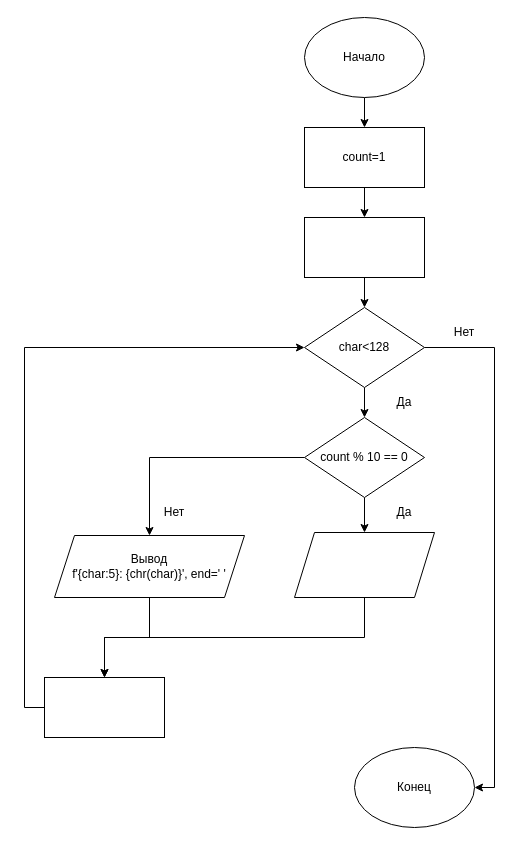
This 520x845 diagram has some shape labels left out. Each missing label, with the box of its shape:
char = 32: (304, 216, 424, 278)
count+=1: (44, 676, 164, 738)
Вывод f'{char:5}: {chr(char)}': (294, 532, 434, 598)
